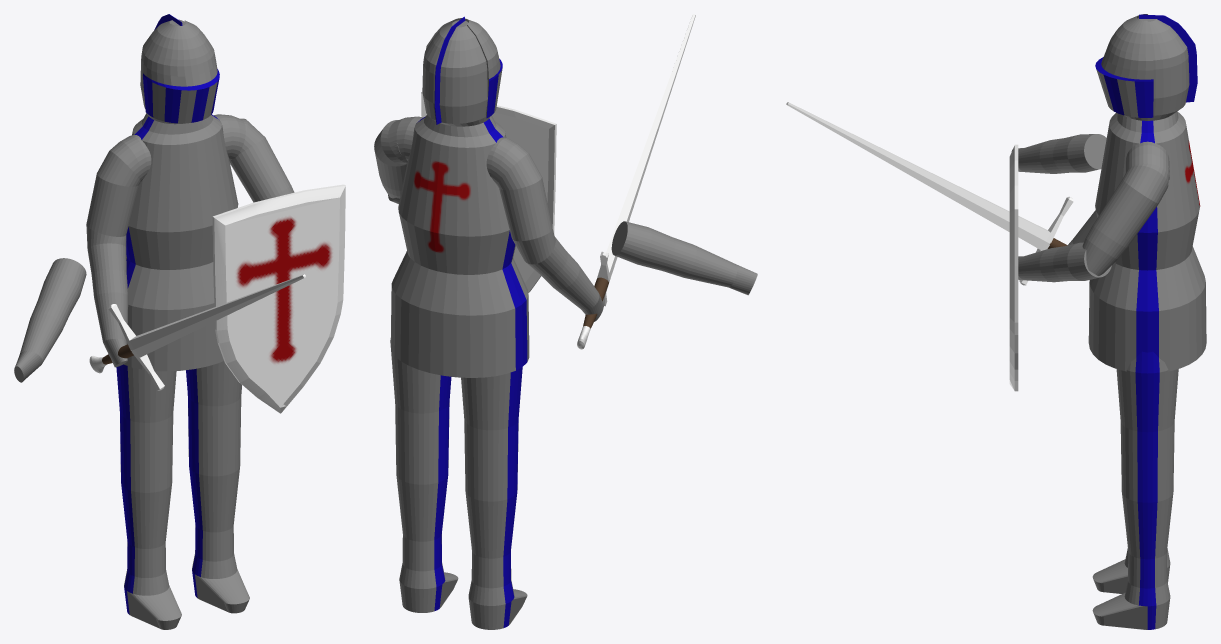
The model's file is Рыцарь2.fbx.
3 views of the same model, side by side, from view 1: azimuth 30°, elevation 25°; view 2: azimuth 150°, elevation 25°; view 3: azimuth 270°, elevation 25° (orthographic).
Parts seen in each view (by area): view 1: Цилиндр.071, Куб.016, Цилиндр.062, Цилиндр.060, Цилиндр.063, Цилиндр.061, Цилиндр.012, Цилиндр.068, Цилиндр.066, Цилиндр.067, Цилиндр.064, Цилиндр.069 (+1 smaller); view 2: Цилиндр.071, Цилиндр.062, Цилиндр.061, Цилиндр.060, Цилиндр.063, Цилиндр.012, Цилиндр.066, Куб.016, Цилиндр.068, Цилиндр.067, Цилиндр.064, Цилиндр.069 (+1 smaller); view 3: Цилиндр.071, Цилиндр.061, Цилиндр.060, Цилиндр.064, Цилиндр.068, Цилиндр.012, Куб.016, Цилиндр.065, Цилиндр.063, Цилиндр.070.
Part boxes in pixels (x1,y1,x2,y2): Цилиндр.071: (123,14,238,371); Куб.016: (212,184,345,413); Цилиндр.062: (116,364,176,492); Цилиндр.060: (189,467,249,613); Цилиндр.063: (121,484,181,629); Цилиндр.061: (186,361,241,476); Цилиндр.012: (14,258,86,382); Цилиндр.068: (89,274,305,390); Цилиндр.066: (86,150,140,248); Цилиндр.067: (87,243,128,367); Цилиндр.064: (229,118,294,202); Цилиндр.069: (110,135,151,181); Цилиндр.071: (390,16,529,377); Цилиндр.062: (461,367,522,501); Цилиндр.061: (390,338,451,484); Цилиндр.060: (396,475,458,612); Цилиндр.063: (465,492,527,629); Цилиндр.012: (611,221,757,295); Цилиндр.066: (497,153,555,264); Куб.016: (421,92,556,292); Цилиндр.068: (577,14,695,349); Цилиндр.067: (527,236,603,321); Цилиндр.064: (374,120,406,198); Цилиндр.069: (486,137,528,184); Цилиндр.071: (1088,14,1206,371); Цилиндр.061: (1116,351,1178,502); Цилиндр.060: (1092,493,1173,629); Цилиндр.064: (1082,163,1169,275); Цилиндр.068: (786,102,1073,285); Цилиндр.012: (1011,134,1106,173); Куб.016: (1009,144,1018,391); Цилиндр.065: (1018,242,1111,282); Цилиндр.063: (1092,548,1170,593); Цилиндр.070: (1125,141,1169,179).
Size of the model in its own units: 67.36 by 114 by 73.79.
